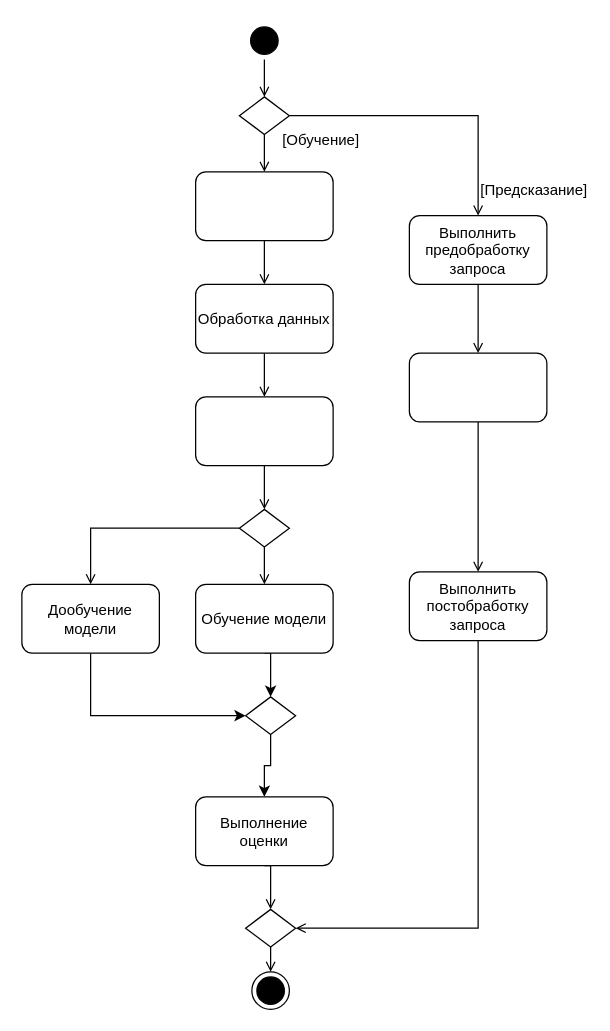
Image size: 610x1031. Some labels were removed from this diagram. Each missing label, with the centre of its shape:
Выполнить предсказание: point (477, 387)
Запись в БД: point (263, 431)
Сбор данных: point (263, 206)
